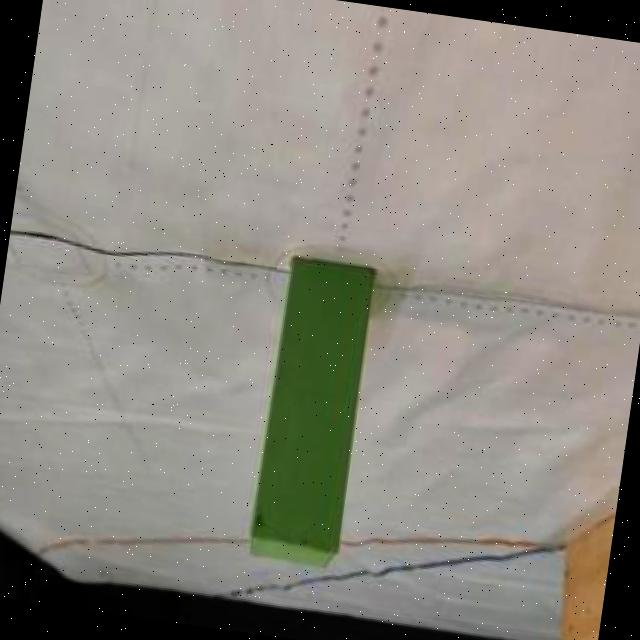greenbox: (247, 254, 379, 566)
